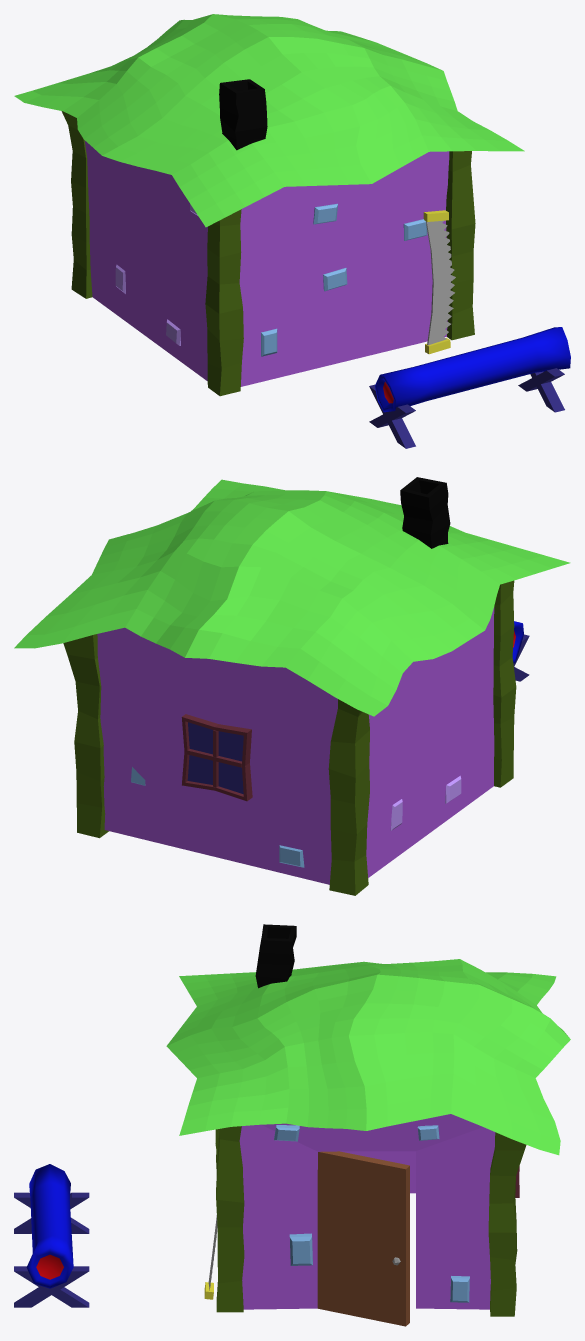
Rendered from Sawmill_Small.fbx.
3 views of the same model, one above another, from view 1: azimuth 30°, elevation 25°; view 2: azimuth 150°, elevation 25°; view 3: azimuth 270°, elevation 25° (orthographic). The views are drawn at different scales.
Visible parts, largest first — view 1: Sawmill_S; view 2: Sawmill_S; view 3: Sawmill_S.
Boxes of the visible parts, box(x1,y1,x2,y2) form: Sawmill_S: box(14, 14, 570, 448); Sawmill_S: box(14, 477, 570, 895); Sawmill_S: box(14, 924, 570, 1326).
Bounding box in the file's own units: 3687 × 2895 × 5112.
